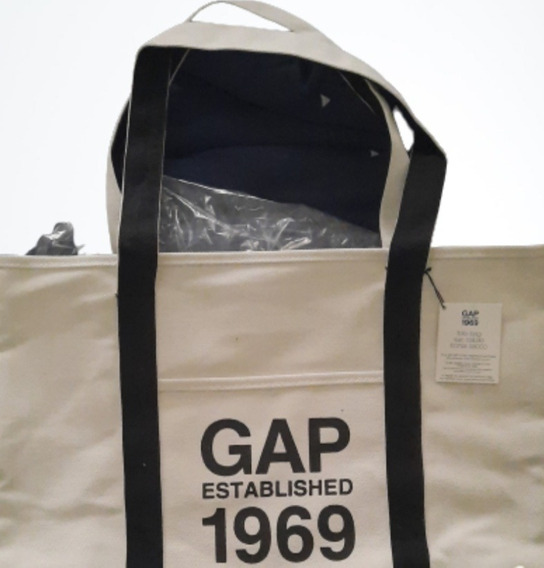cartera: (7, 1, 544, 568)
